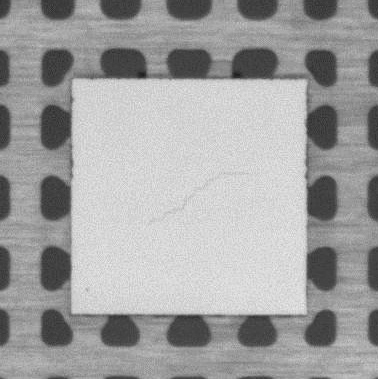DIE_INK: (83, 285, 91, 296)
